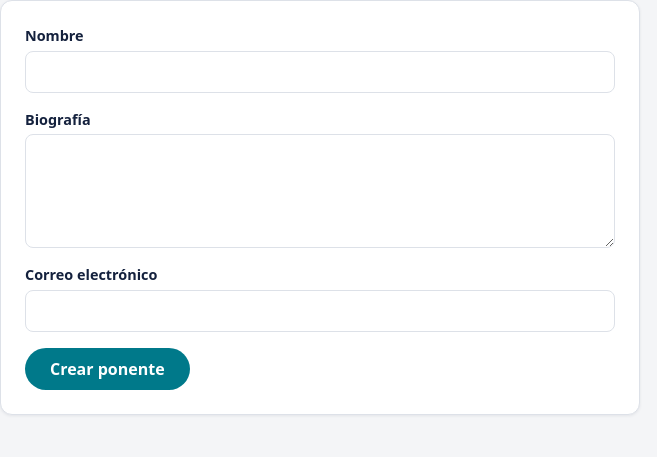
Test: SpeakerForm › shows a taken email on the email field
This screenshot has width=657, height=457.
Type "Grace Hopper" into the field labelled "Nombre" at (320, 72), box [25,51,615,93]
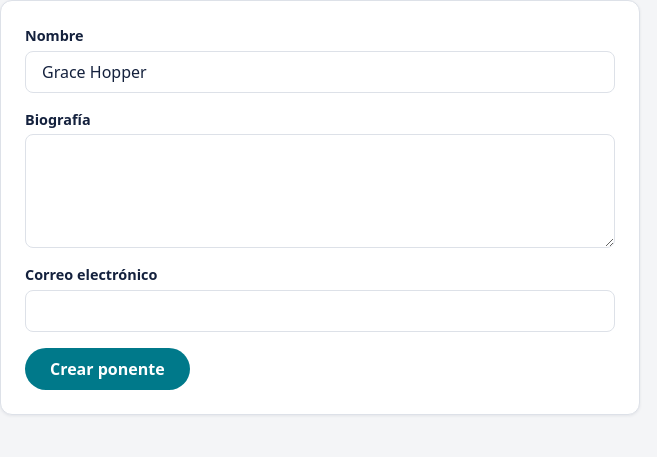
Type "grace@example.com" into the field labelled "Correo electrónico" at (320, 311), box [25,290,615,332]
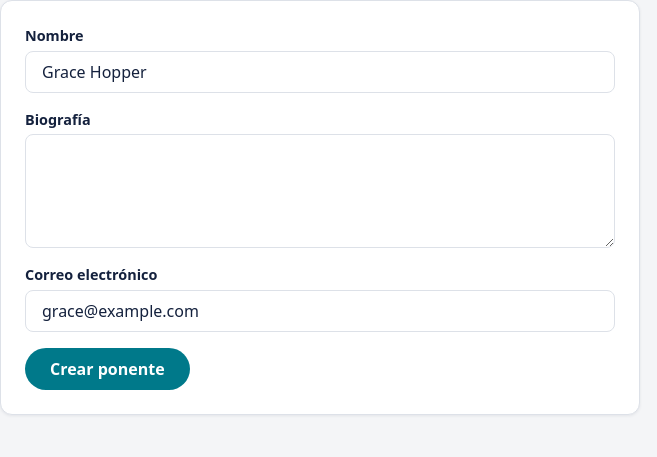
Click the button "Crear ponente" at (107, 369), box [25,348,190,390]
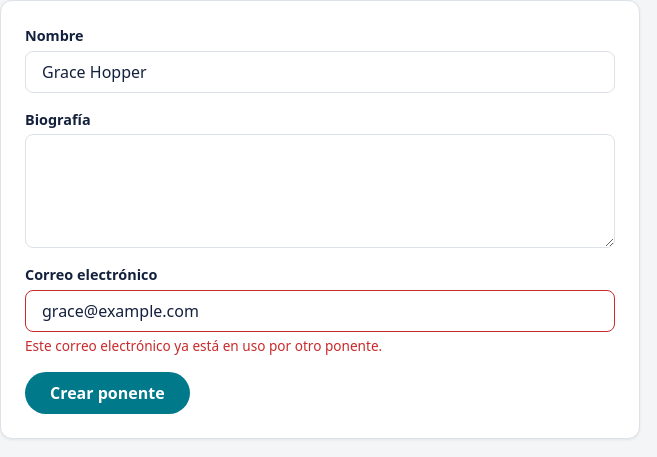
Expected: the button "Crear ponente" is enabled, [25,372,190,414]
Expected: the text "Este correo electrónico ya está en uso por otro ponente." is shown, [25,336,382,355]
